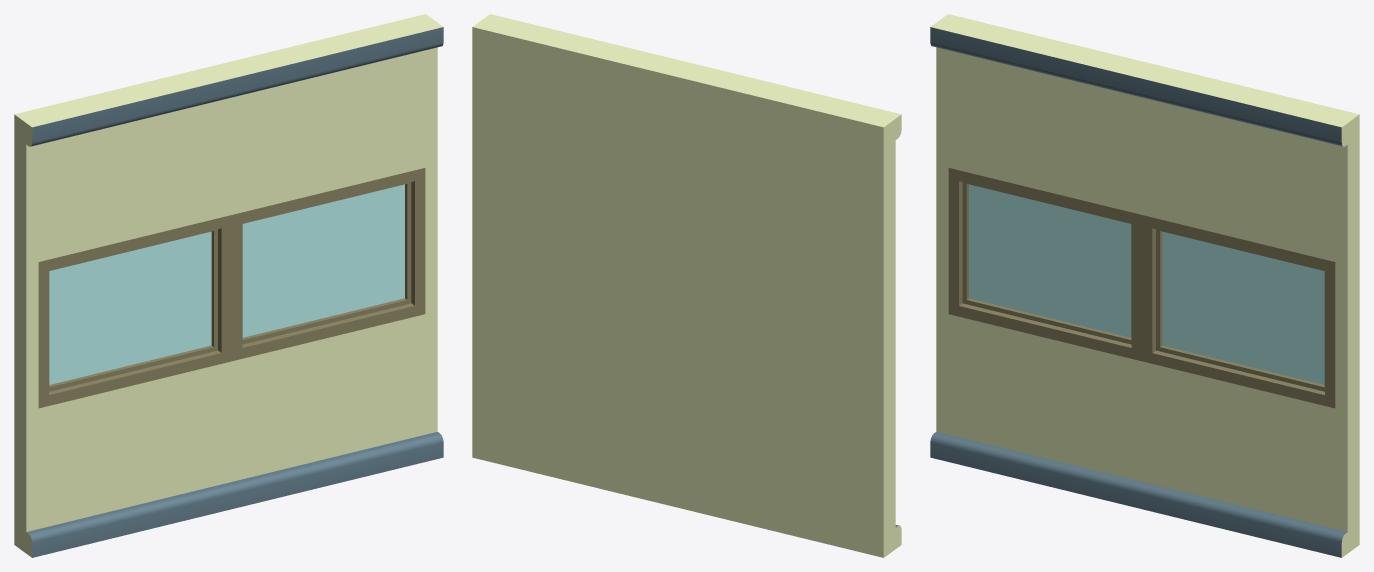
File: Modular_01_Window_01.fbx
3 views of the same model, side by side, from view 1: azimuth 30°, elevation 25°; view 2: azimuth 150°, elevation 25°; view 3: azimuth 330°, elevation 25° (orthographic).
Visible parts, largest first — view 1: Modular_01_Window_01; view 2: Modular_01_Window_01; view 3: Modular_01_Window_01.
Boxes of the visible parts, x1,y1,x2,y2 form: Modular_01_Window_01: (14, 14, 443, 557); Modular_01_Window_01: (472, 14, 901, 557); Modular_01_Window_01: (930, 14, 1359, 557).
Size of the model in its own units: 200 by 200 by 15.
